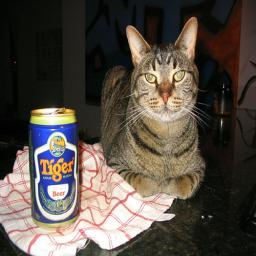catnose: (160, 92, 170, 102)
